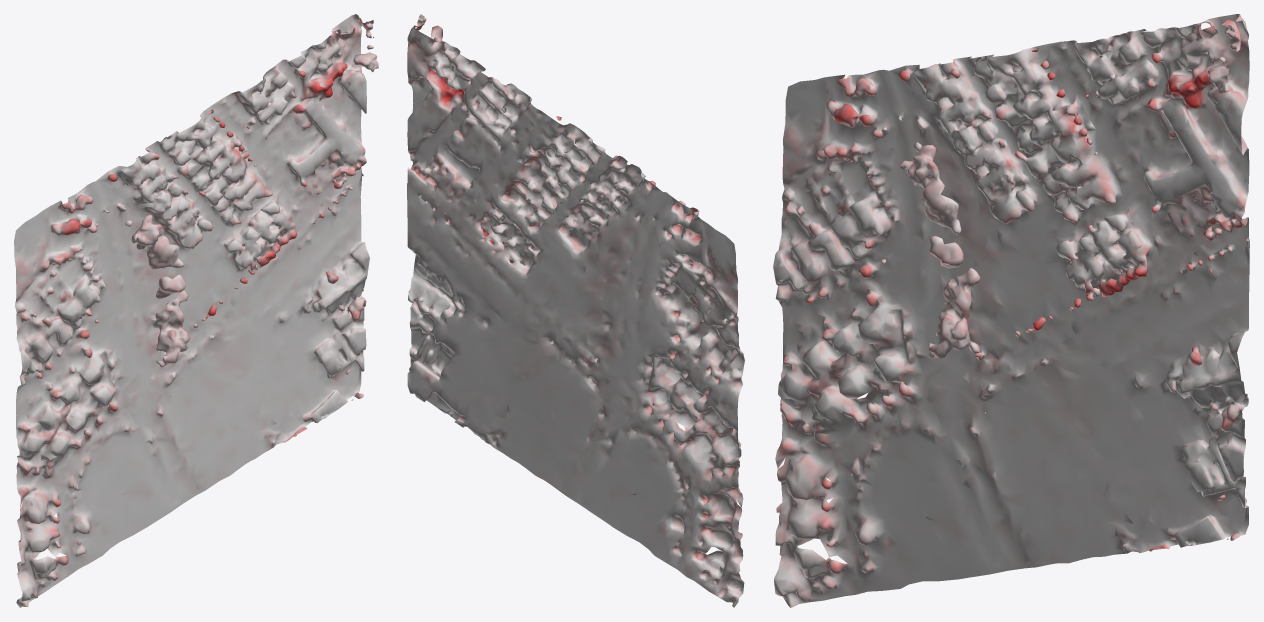
File: mesh-error-color-texture.obj
3 views of the same model, side by side, from view 1: azimuth 30°, elevation 25°; view 2: azimuth 150°, elevation 25°; view 3: azimuth 330°, elevation 25° (orthographic). The views are drawn at different scales.
Bounding box in the file's own units: 256 × 368 × 32.09.
